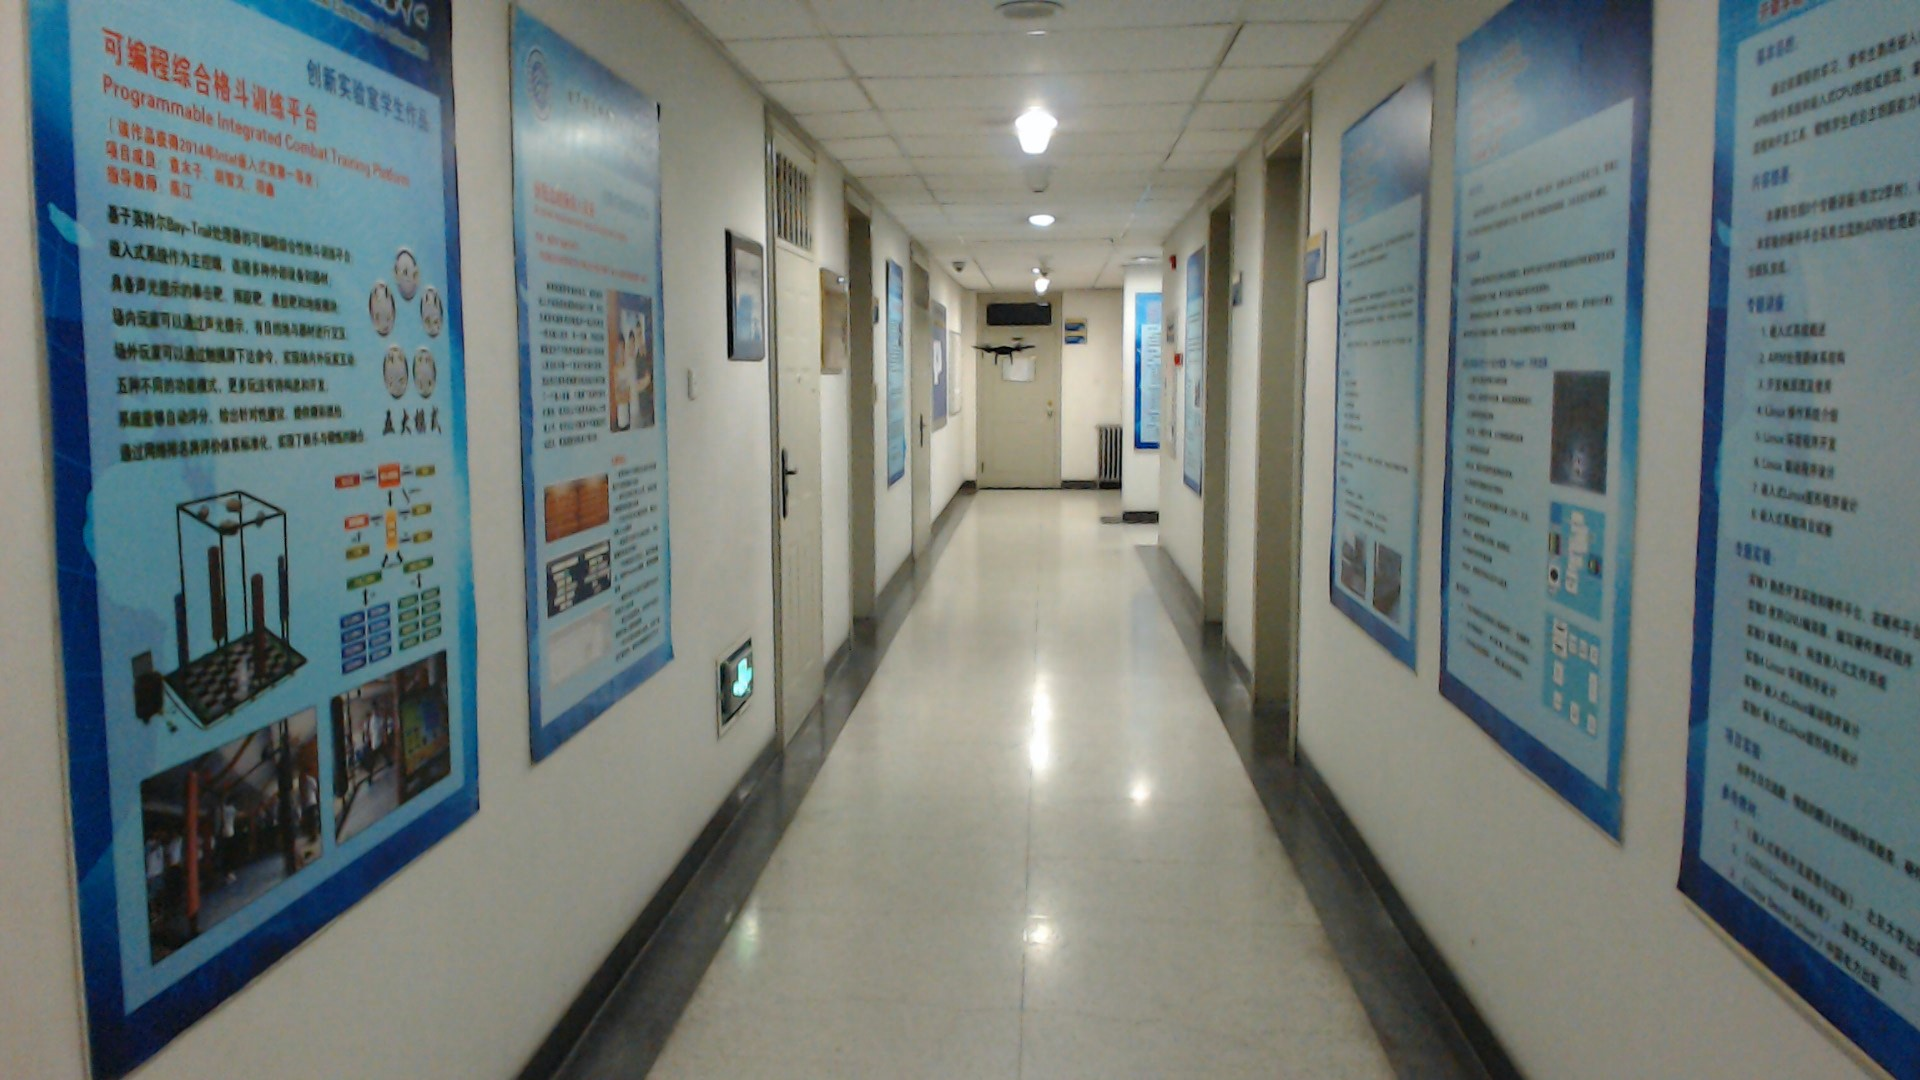test_drone: (967, 338, 1044, 369)
